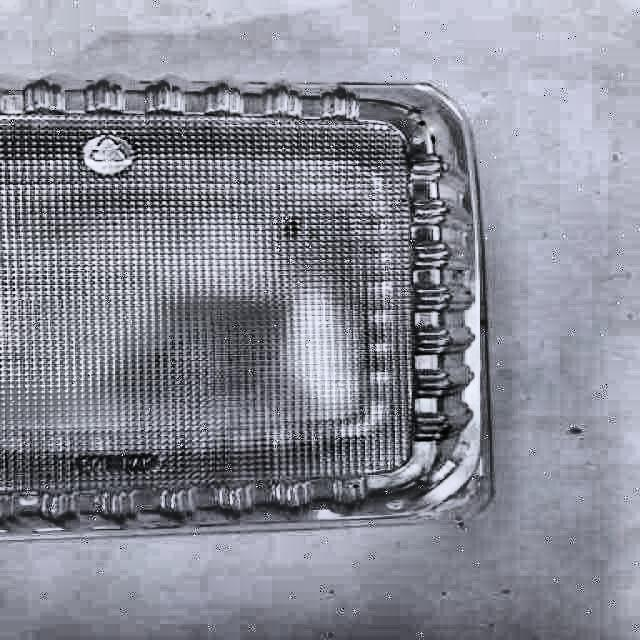plastic: (0, 79, 490, 532)
